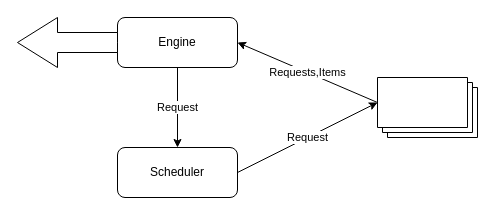
This 495x215 diagram has some shape labels left out. The centre of each missing label's shape, as x and y in pixels:
"Items" goes at pixel 67 42.
"Worker" goes at pixel 427 107.
